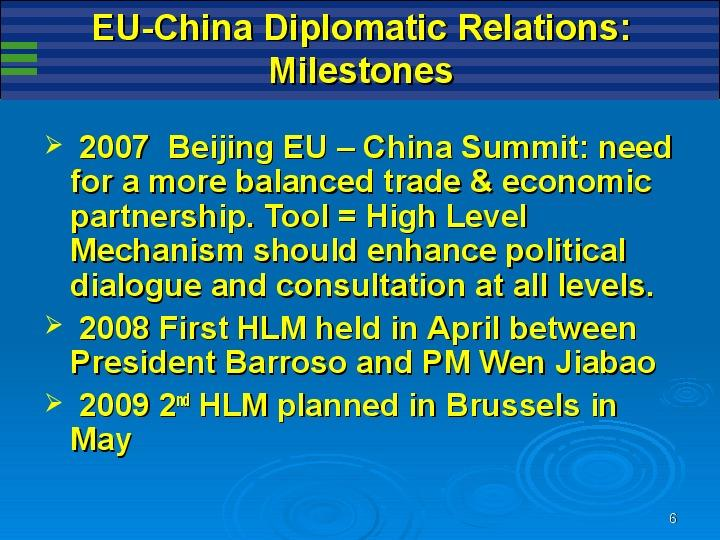paragraph: (36, 121, 681, 466)
title: (85, 5, 643, 97)
